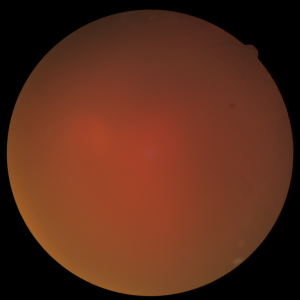cataract: (46, 91, 256, 202)
